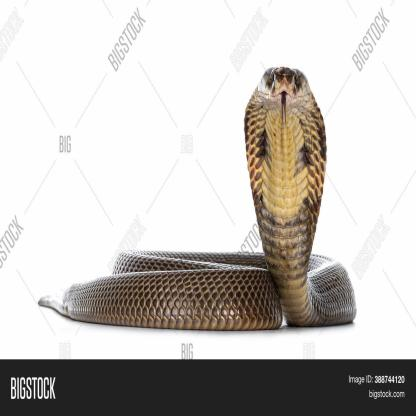Snake: (33, 62, 357, 328)
